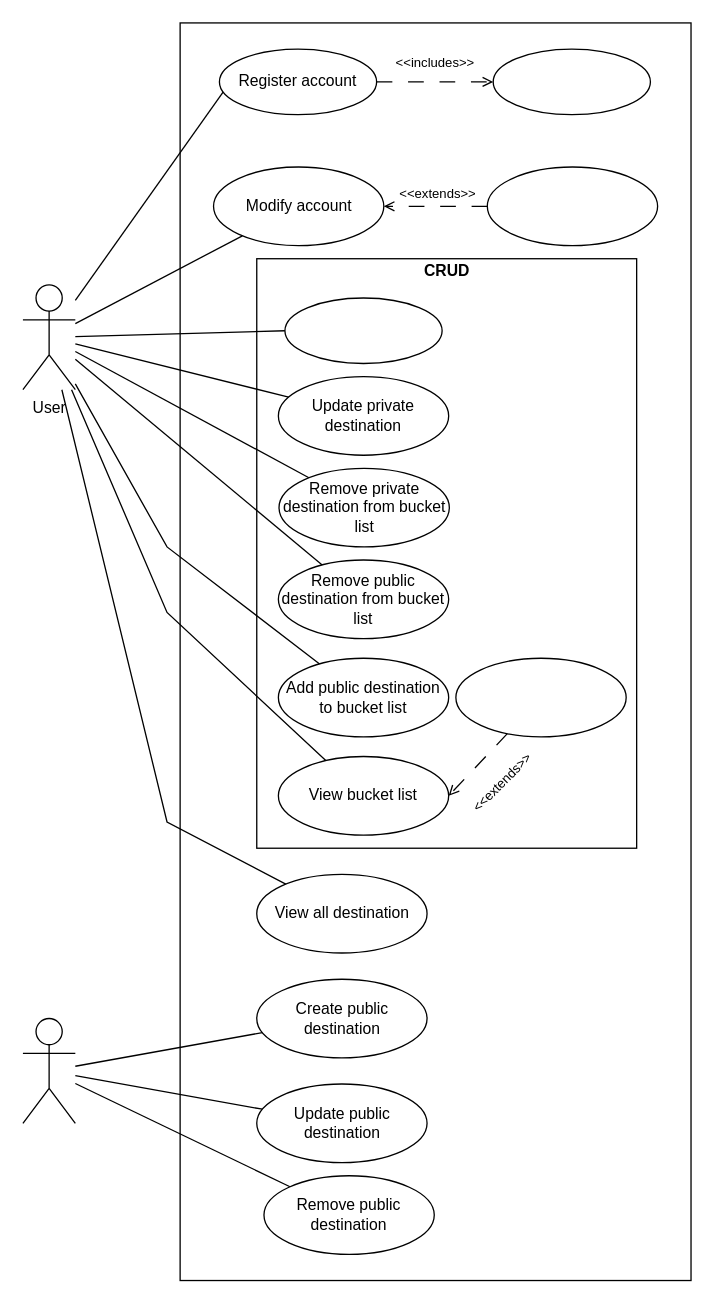
The diagram is 714 pixels wide and 1303 high, and some of its shapes have lost their labels. The shapes that lost their labels are listed below. From the top down, each one's centre as x and y in pixels, then its label:
(x=571, y=81): Log into account
(x=572, y=206): Remove account
(x=363, y=330): Create private destination
(x=540, y=697): View bucket list filtered by attribute
(x=48, y=1070): Admin
